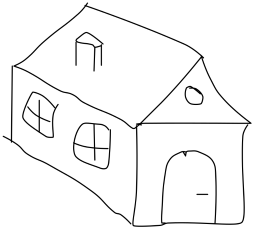big_house: (2, 1, 260, 234)
chimney: (68, 27, 109, 75)
closed_window: (69, 117, 118, 171), (17, 86, 57, 140)
door: (158, 143, 227, 229)
roof: (9, 1, 254, 127)
wall: (129, 115, 255, 231)
